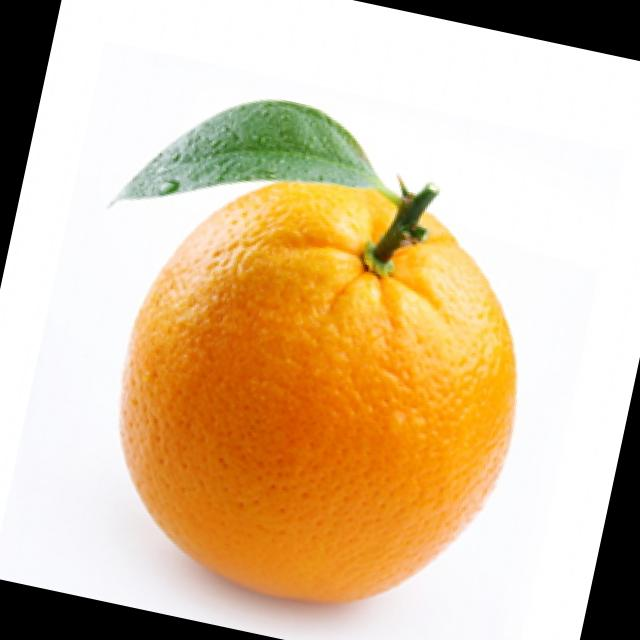orange: (74, 137, 546, 640)
